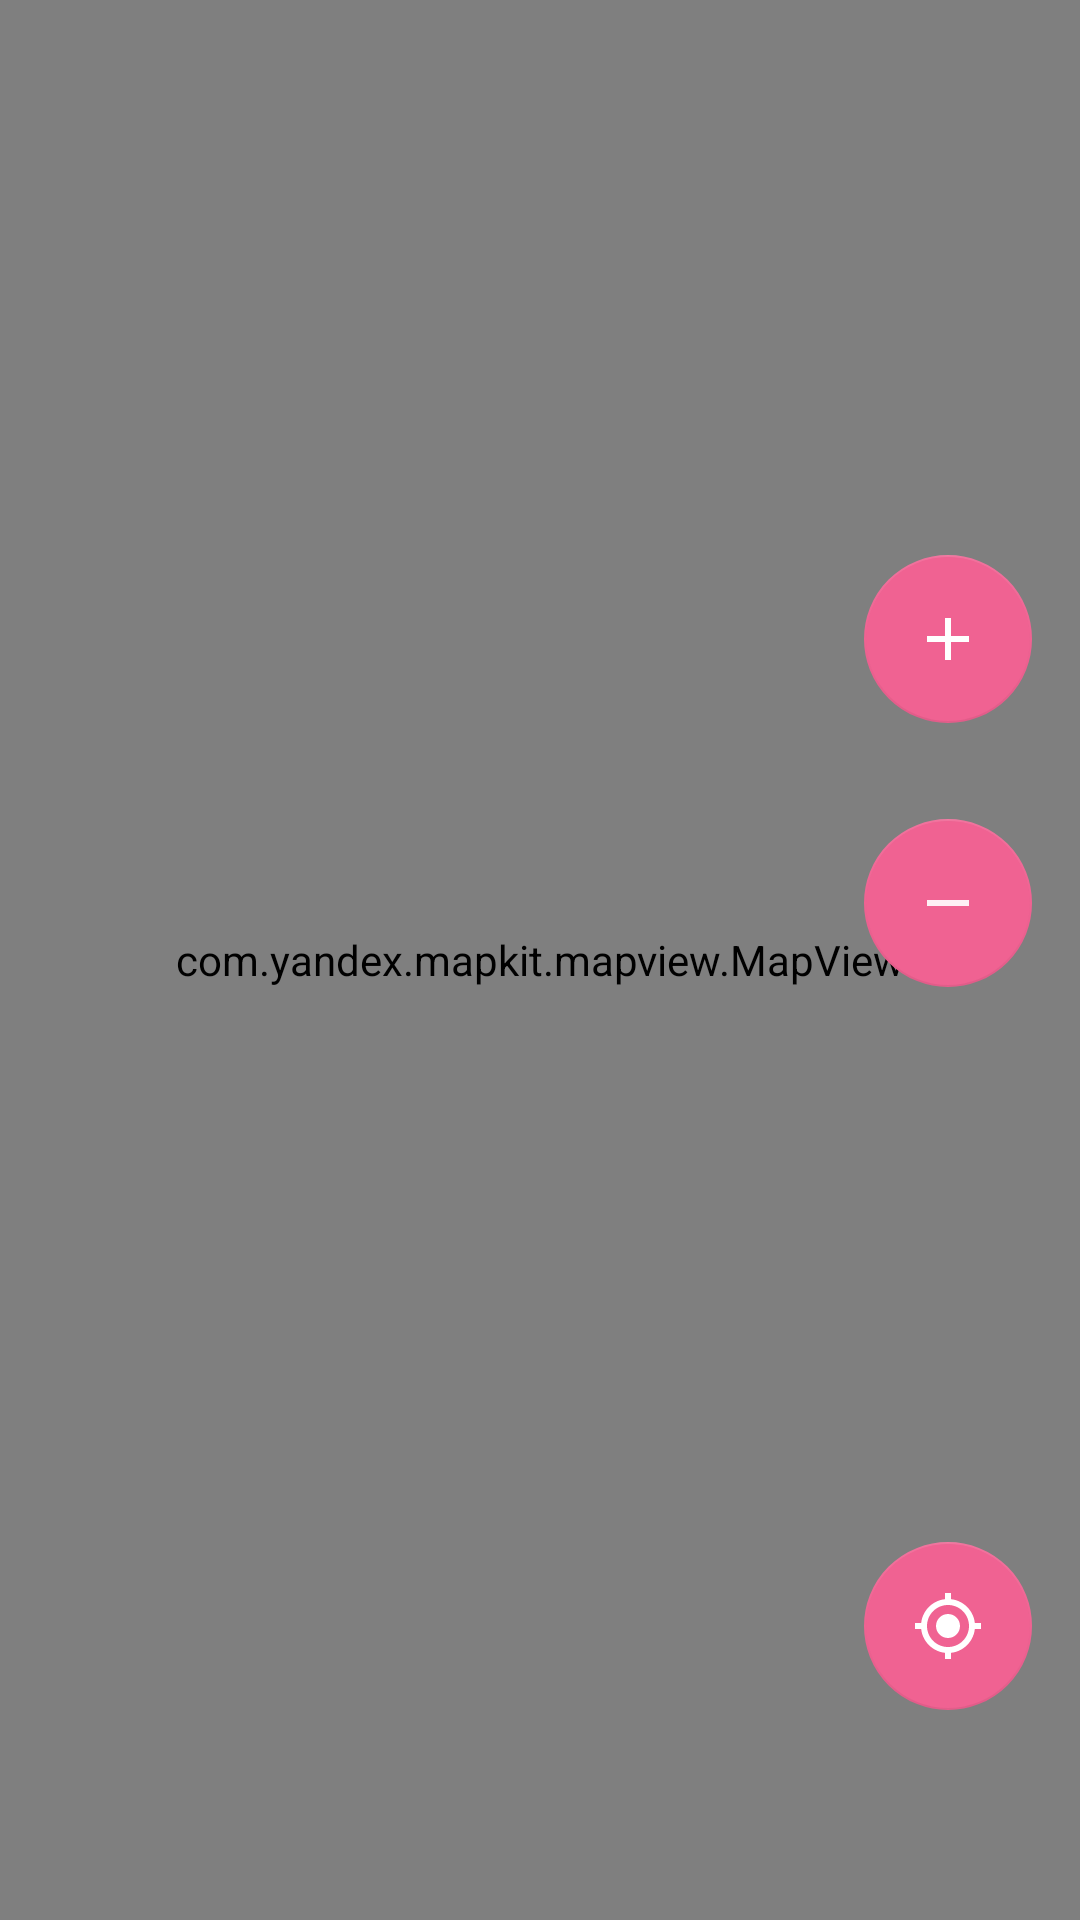

Screen size 1080 x 1920. Icon name, then its center in pixels as (x,y):
User location: (948,1626)
Zoom in: (948,639)
Zoom out: (948,903)
